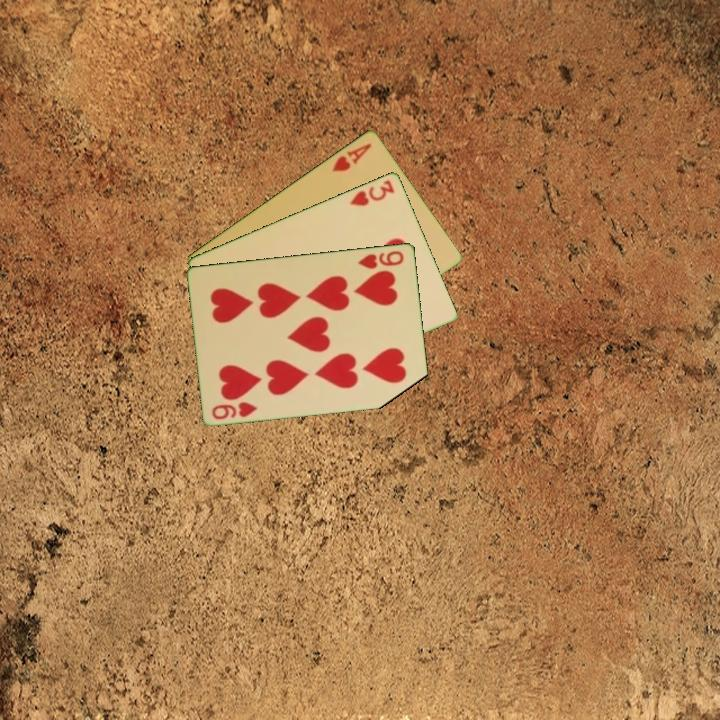3h: (346, 176, 397, 209)
9h: (355, 247, 407, 272), (209, 398, 260, 422)
Ah: (329, 139, 374, 174)
